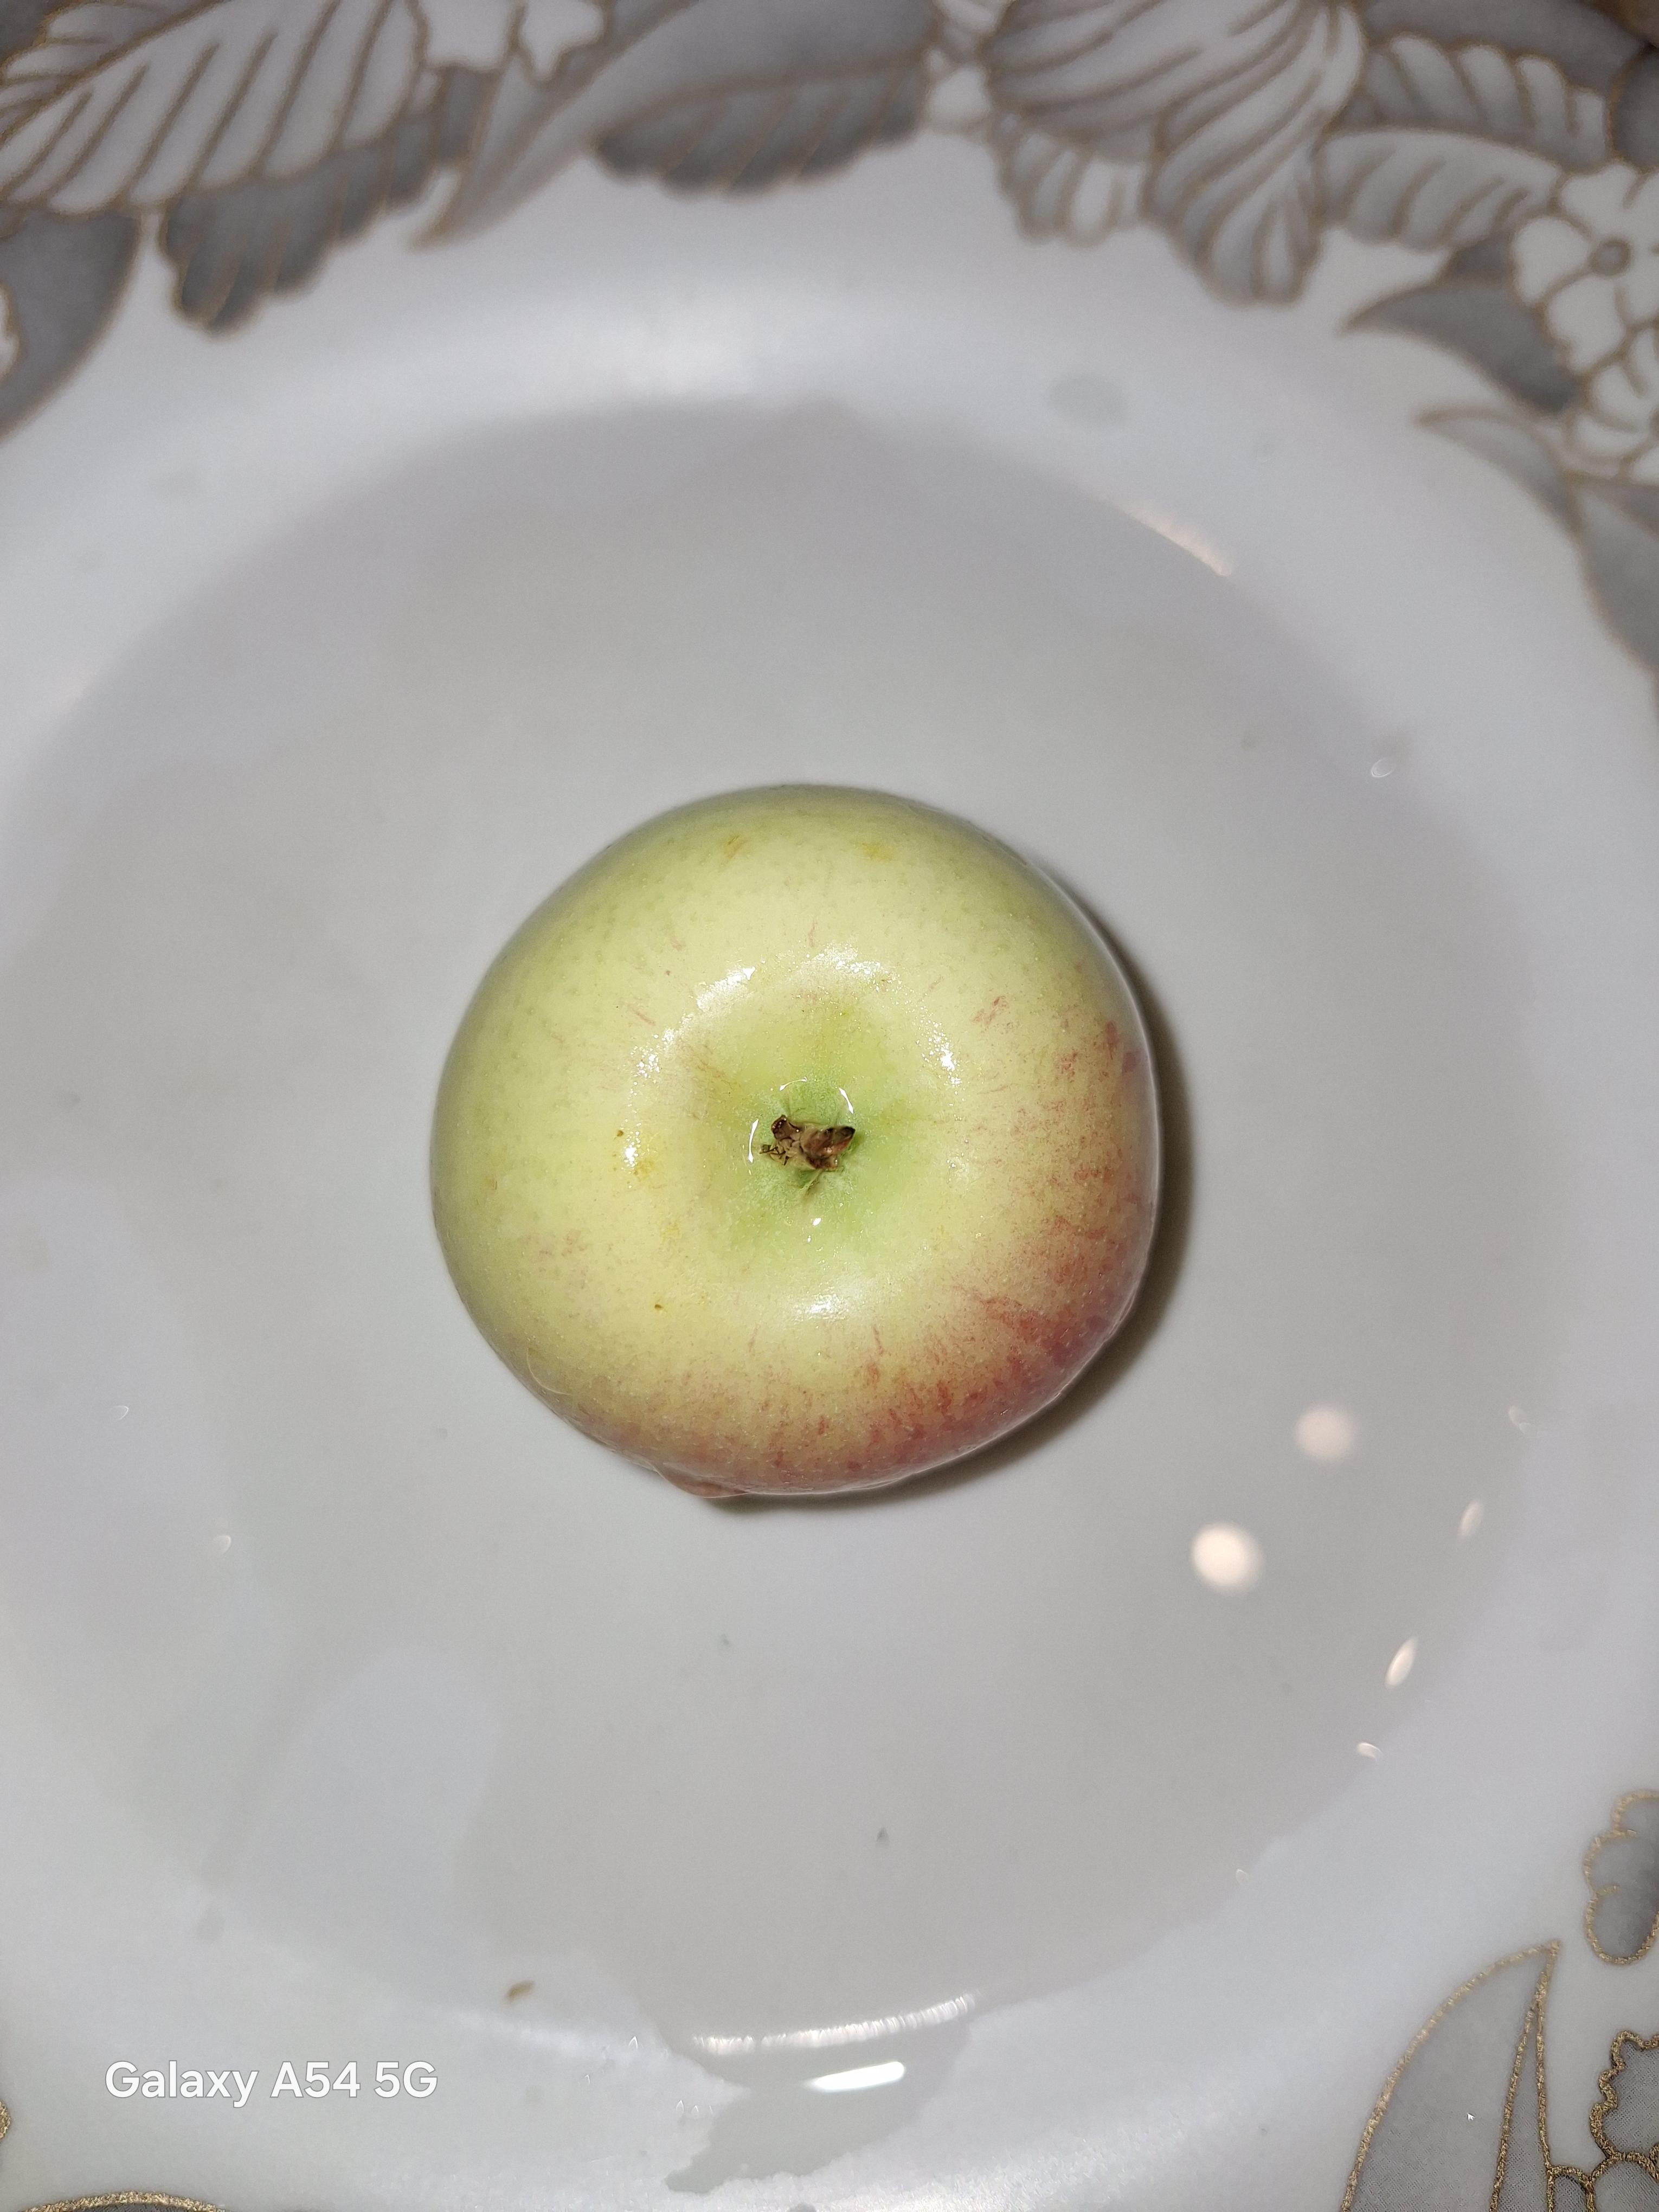non-mango: (429, 777, 1176, 1526)
